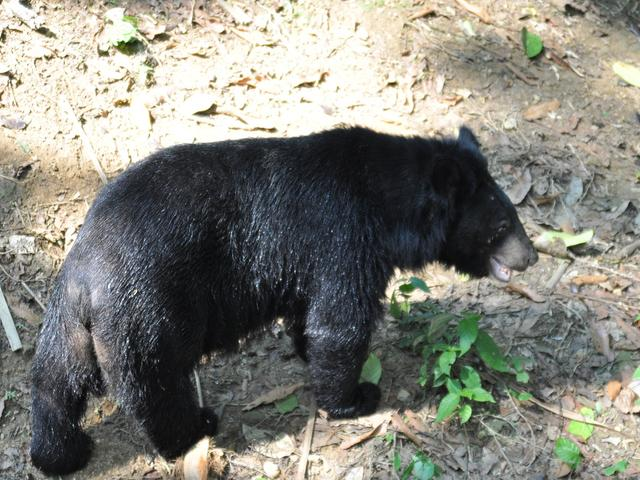Bear: (25, 124, 546, 453)
